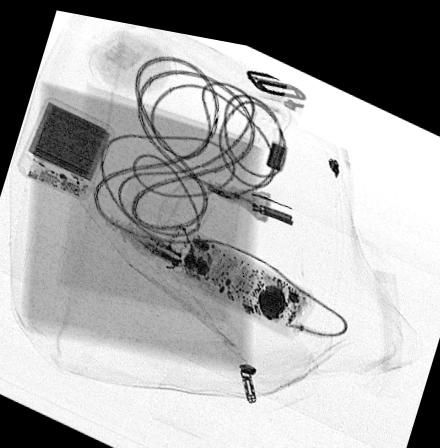Powerbank: (14, 94, 115, 198)
